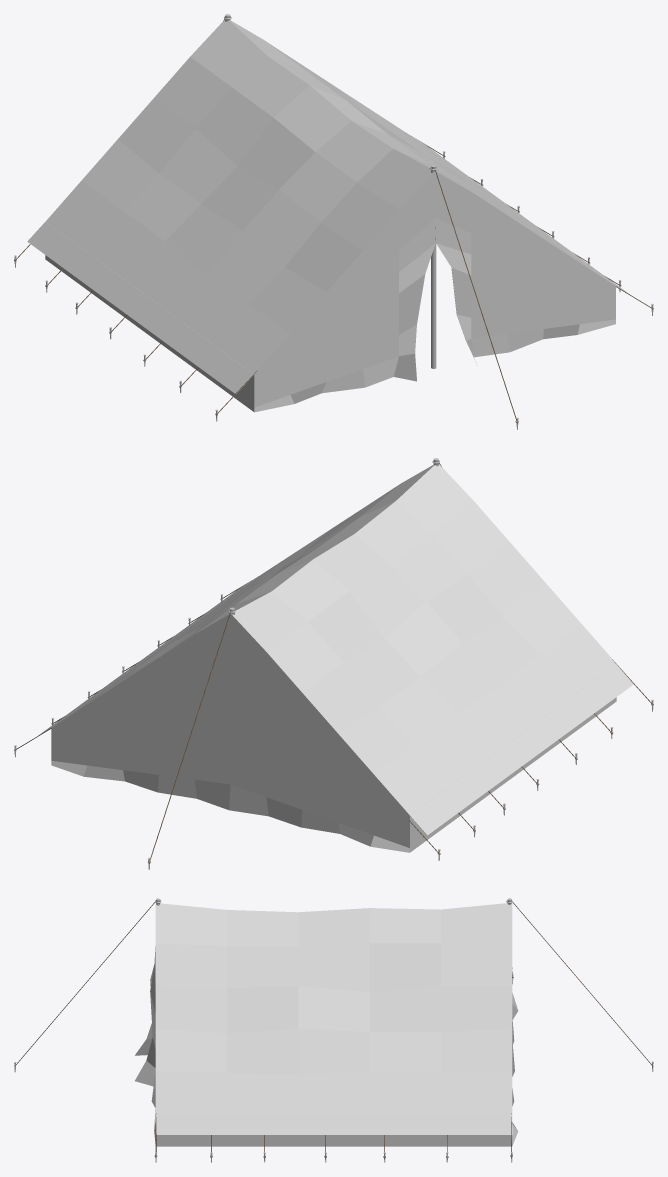
Rendered from carpas.fbx.
3 views of the same model, one above another, from view 1: azimuth 30°, elevation 25°; view 2: azimuth 150°, elevation 25°; view 3: azimuth 270°, elevation 25° (orthographic). The views are drawn at different scales.
Parts seen in each view (by area): view 1: contubernium_1, Cylinder.015; view 2: contubernium_1; view 3: contubernium_1.
Boxes of the visible parts, x1=… form: contubernium_1: x1=27, y1=19, x2=628, y2=412; Cylinder.015: x1=431, y1=165, x2=436, y2=368; contubernium_1: x1=34, y1=464, x2=633, y2=852; contubernium_1: x1=135, y1=903, x2=518, y2=1146.
Size of the model in its own units: 1210 by 534 by 1795.
